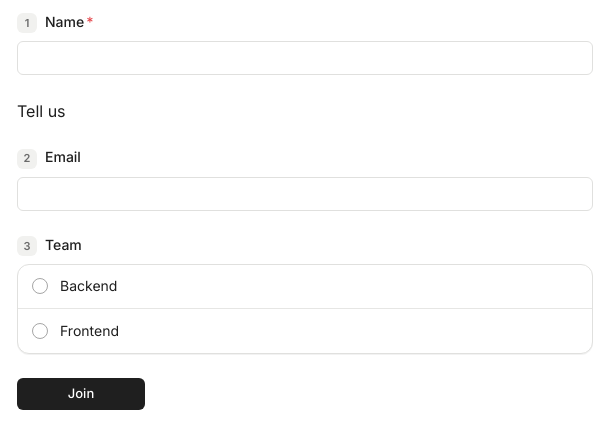
Scenario: FormFill › shows a field per question, keeps other blocks, and sends the answers
Check: the text "Tell us" is shown, box [17,101,66,121]
Type "Lan" into the field labelled "Name*" at [305, 58], box [17,41,593,75]
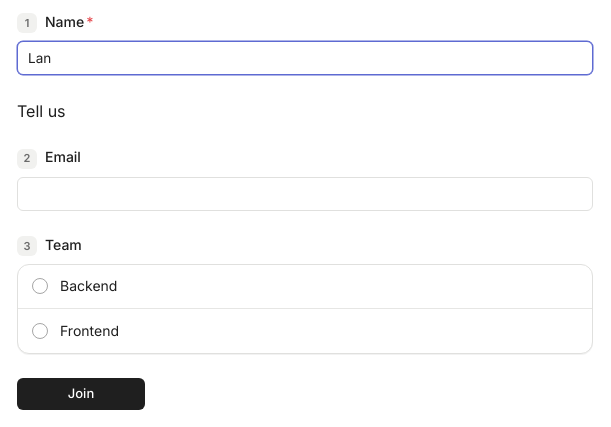
Type "lan@example.com" into the field labelled "Email" at [305, 194], box [17,176,593,210]
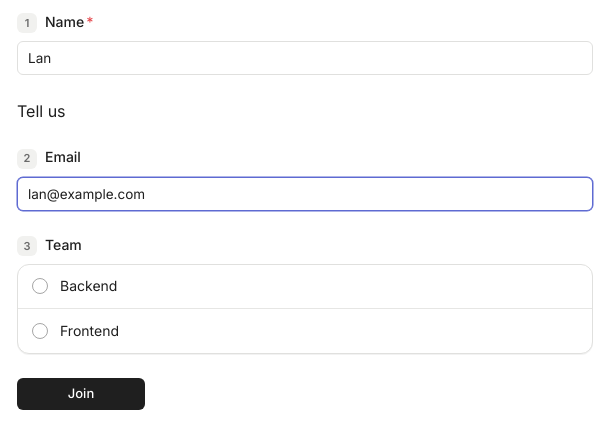
Click the radio button labelled "Frontend" at [40, 331], box [32,323,48,339]
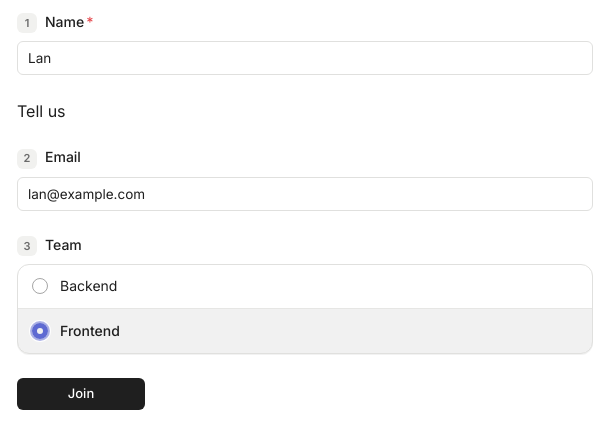
Click the button "Join" at [81, 394], box [17,378,145,410]
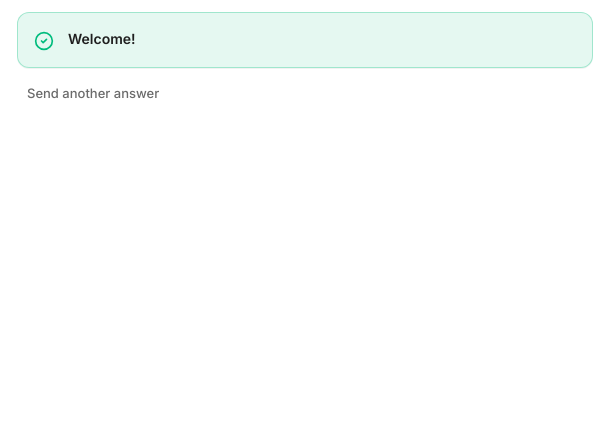
Check: the text "Welcome!" is shown, box [68,30,136,47]
